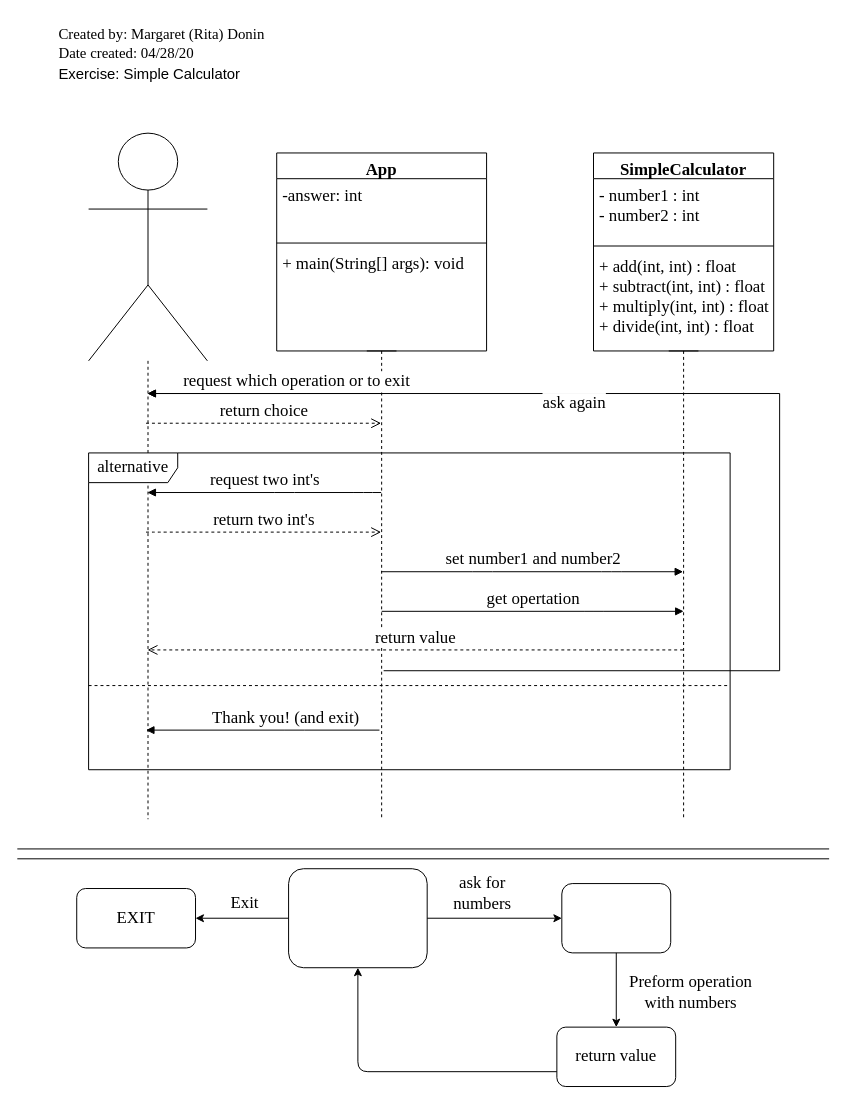
The diagram is 847 pixels wide and 1104 high, and some of its shapes have lost their labels. Here are the shapes that lost their labels. From the top down, the centre of each, then its label:
point (357, 918): START: Would you like to add, subtract, multiply, divide or exit?
point (616, 918): set numbers.
